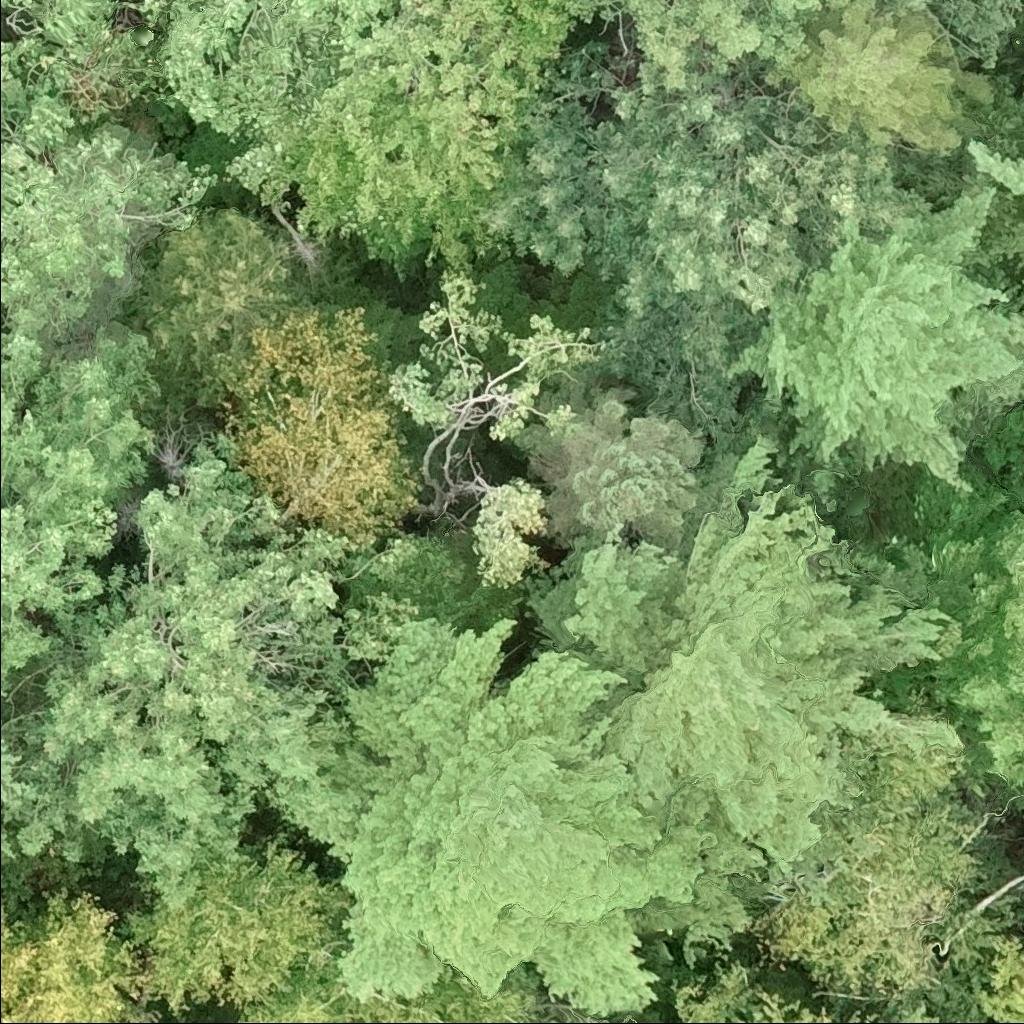crown: (525, 434, 964, 907), (261, 611, 766, 1019), (2, 424, 421, 909), (482, 35, 939, 475), (724, 182, 1023, 498), (249, 0, 582, 282), (0, 32, 225, 340), (744, 746, 987, 1015), (0, 305, 163, 679), (215, 303, 423, 550), (725, 0, 1007, 166), (112, 836, 355, 1019), (123, 0, 394, 145), (910, 455, 1023, 793), (128, 203, 302, 410), (511, 380, 708, 554), (612, 0, 851, 105), (0, 884, 165, 1023), (0, 0, 161, 126), (672, 956, 958, 1023), (360, 964, 649, 1023), (871, 0, 1023, 74), (236, 963, 383, 1023), (966, 135, 1023, 271), (0, 717, 43, 866), (973, 933, 1023, 1023), (0, 678, 13, 701), (1018, 275, 1023, 287)
